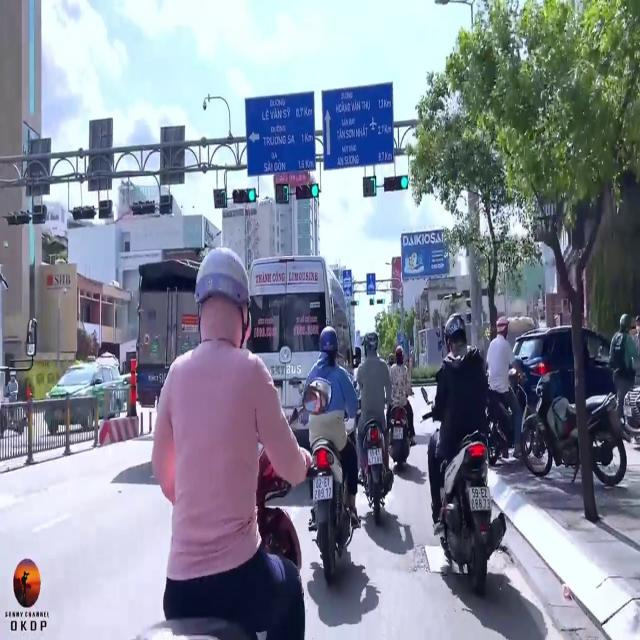bien_trang: (310, 469, 337, 504), (467, 482, 491, 514)
